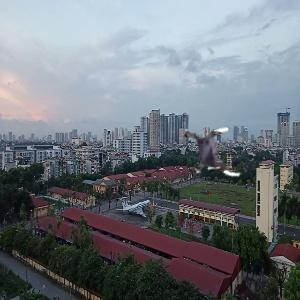drone: (180, 121, 246, 187)
